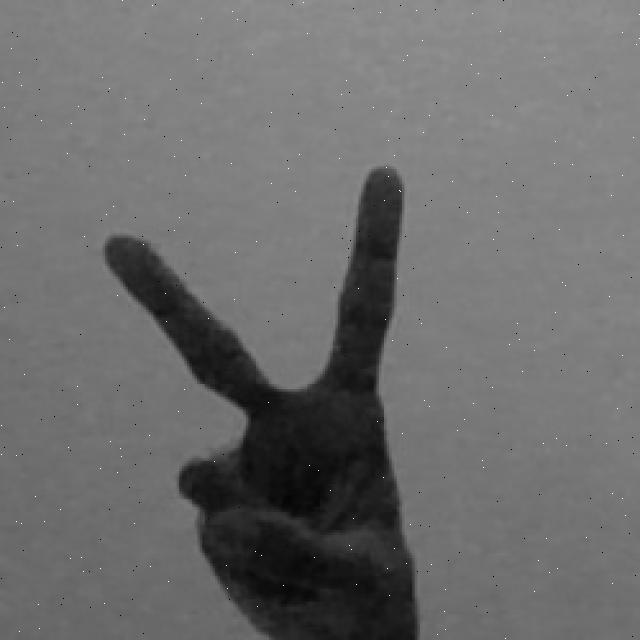V: (94, 158, 422, 640)
